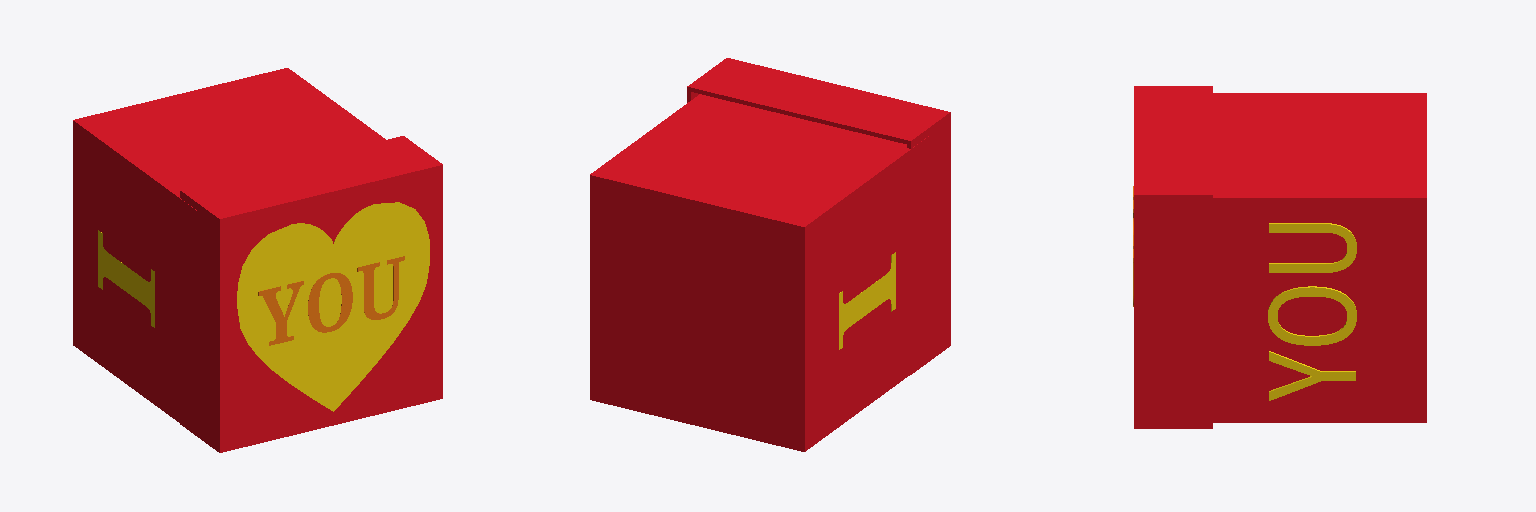
The model's file is tinker.obj.
3 views of the same model, side by side, from view 1: azimuth 30°, elevation 25°; view 2: azimuth 150°, elevation 25°; view 3: azimuth 270°, elevation 25° (orthographic).
Parts seen in each view (by area): view 1: obj_0; view 2: obj_0; view 3: obj_0.
Boxes of the visible parts, x1,y1,x2,y2 form: obj_0: [73, 68, 442, 452]; obj_0: [590, 58, 950, 451]; obj_0: [1133, 86, 1426, 428].
Bounding box in the file's own units: 53.1 × 52 × 59.05.